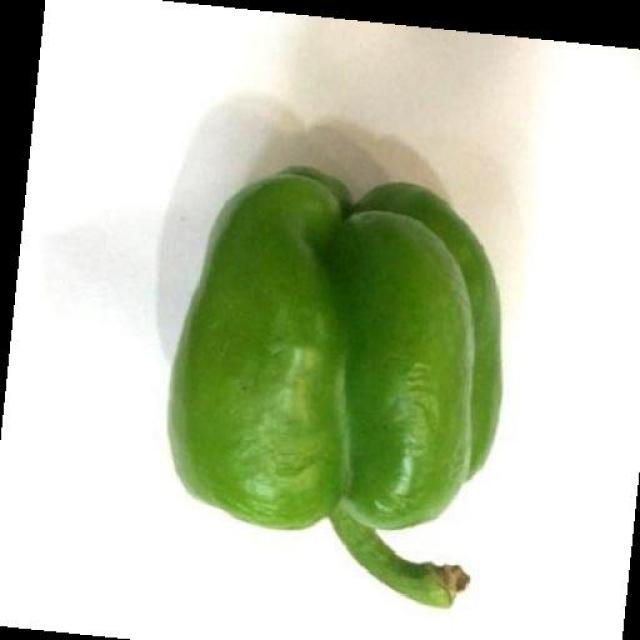Fresh_Capsicum: (162, 169, 538, 640)
